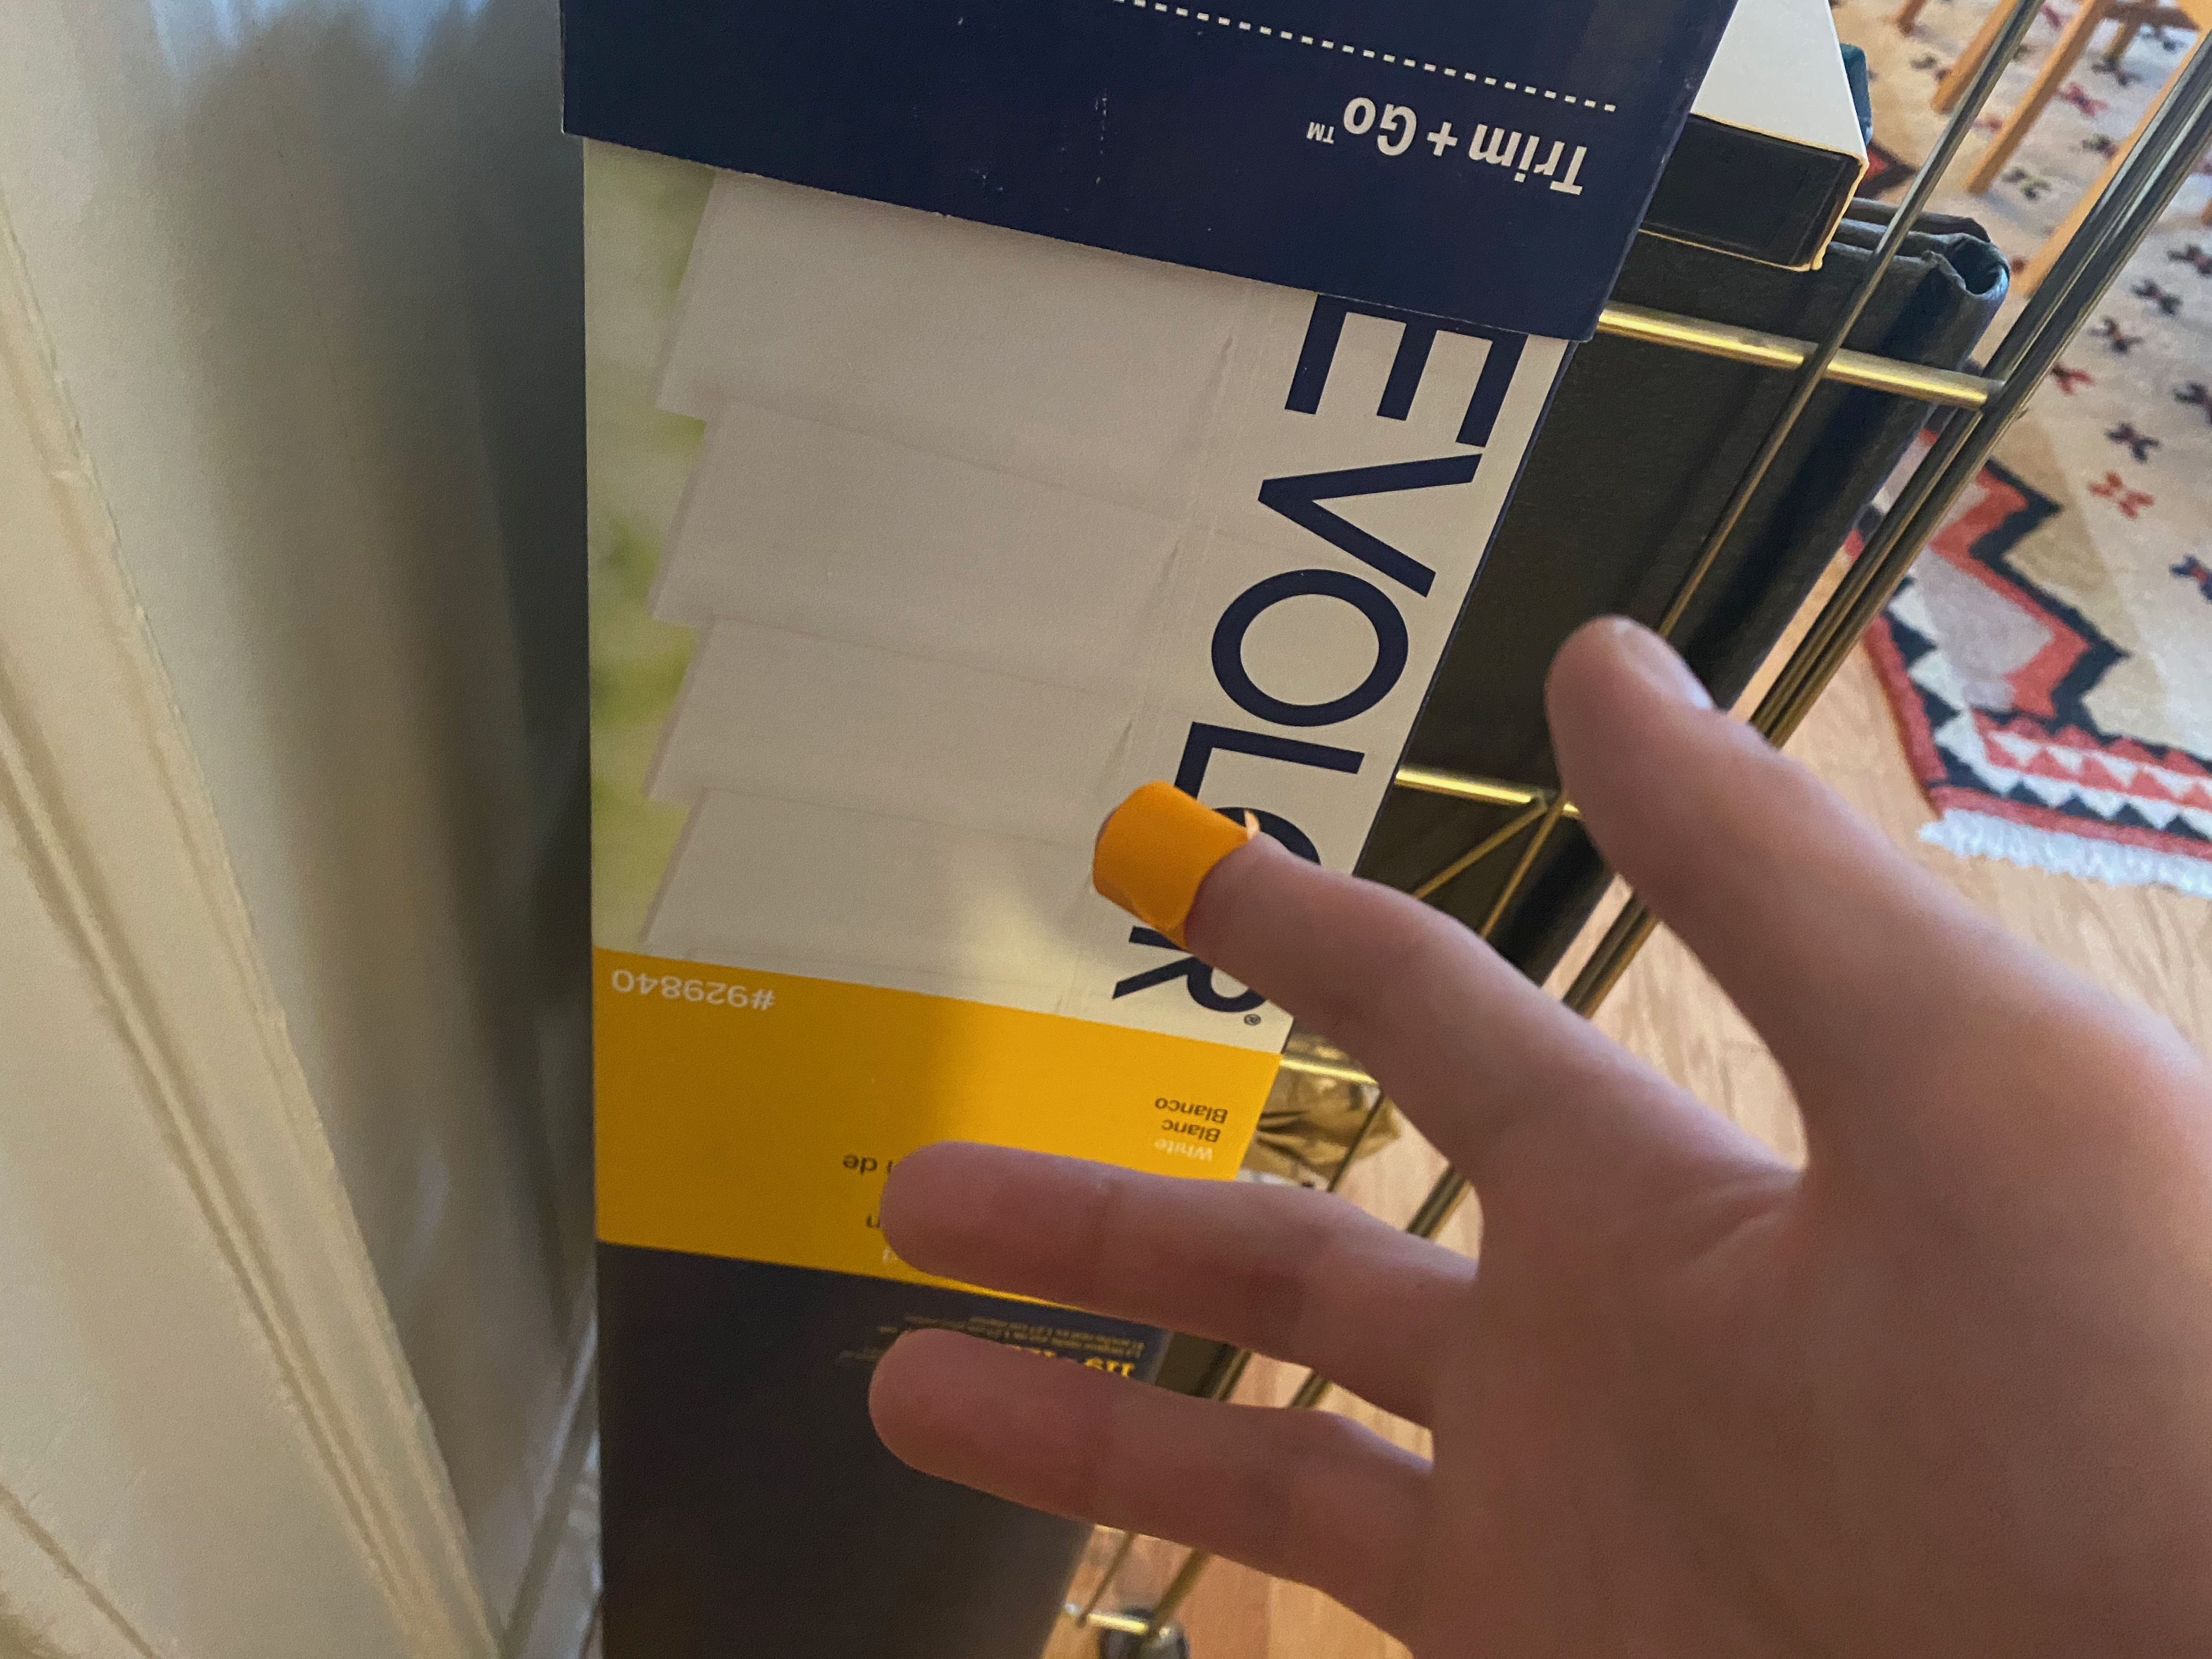fingertip: (1045, 763, 1306, 979)
